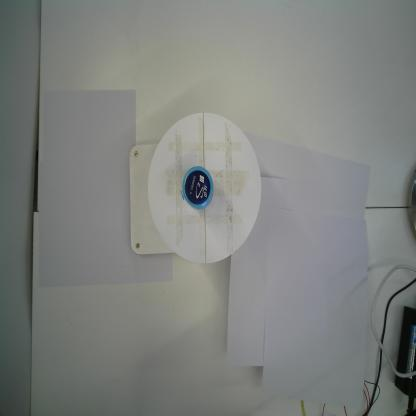Gum: (180, 166, 213, 210)
